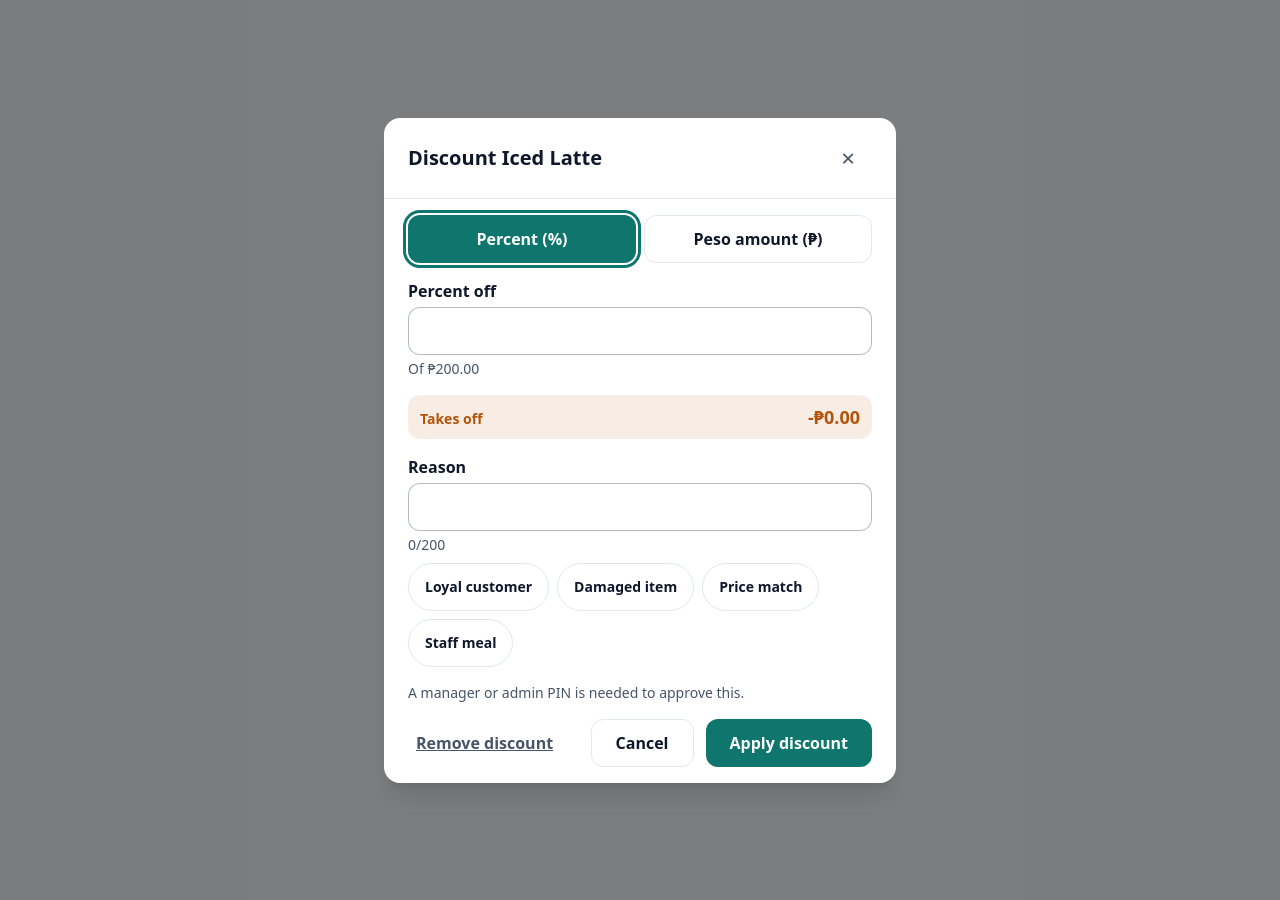
Test: DiscountDialog › refuses a fixed amount above the total
Step 1. Click the radio button labelled "Peso amount (₱)" → (758,238), box [644, 214, 872, 262]
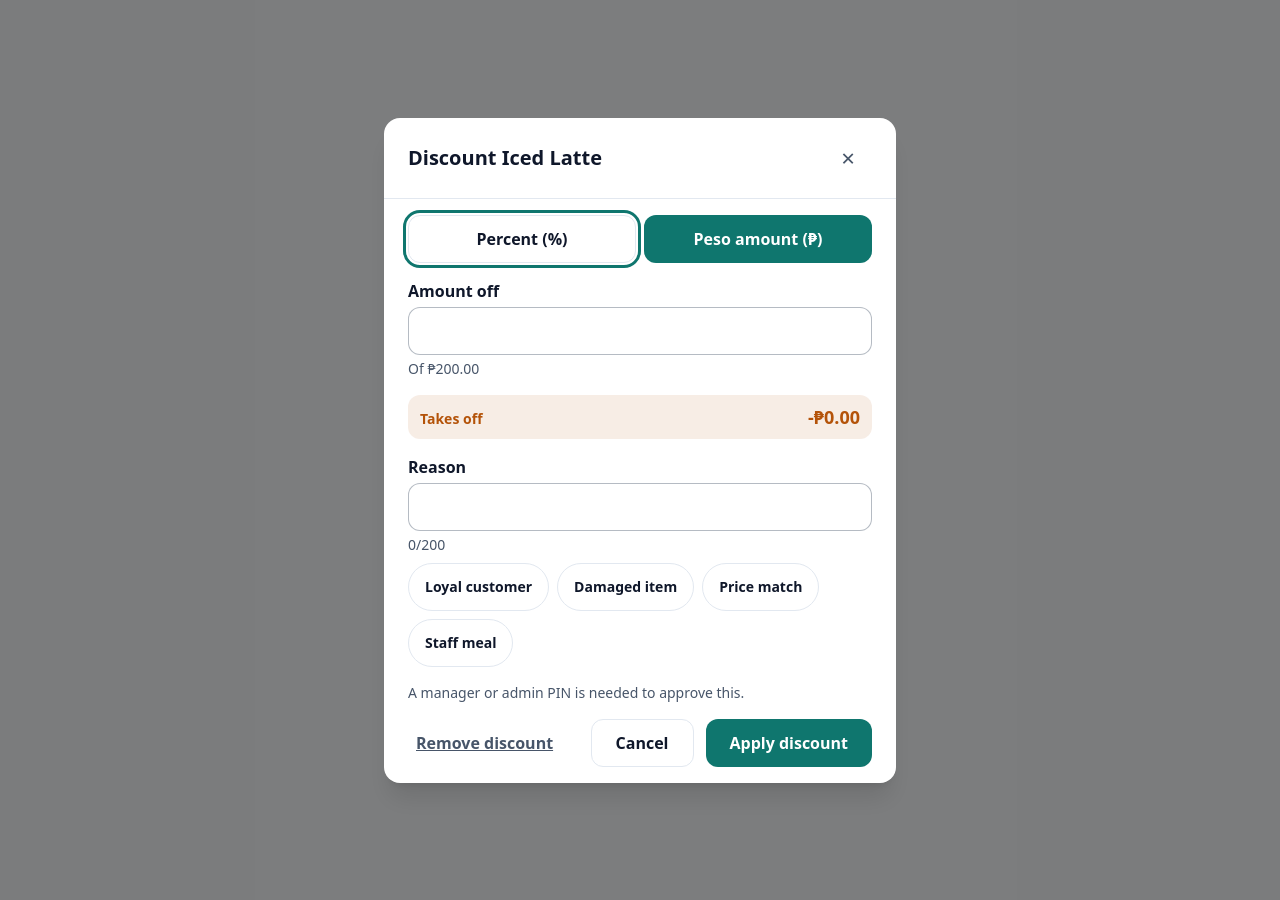
Step 2. Type "250" into the field labelled "Amount off" → (640,330), box [408, 306, 872, 354]
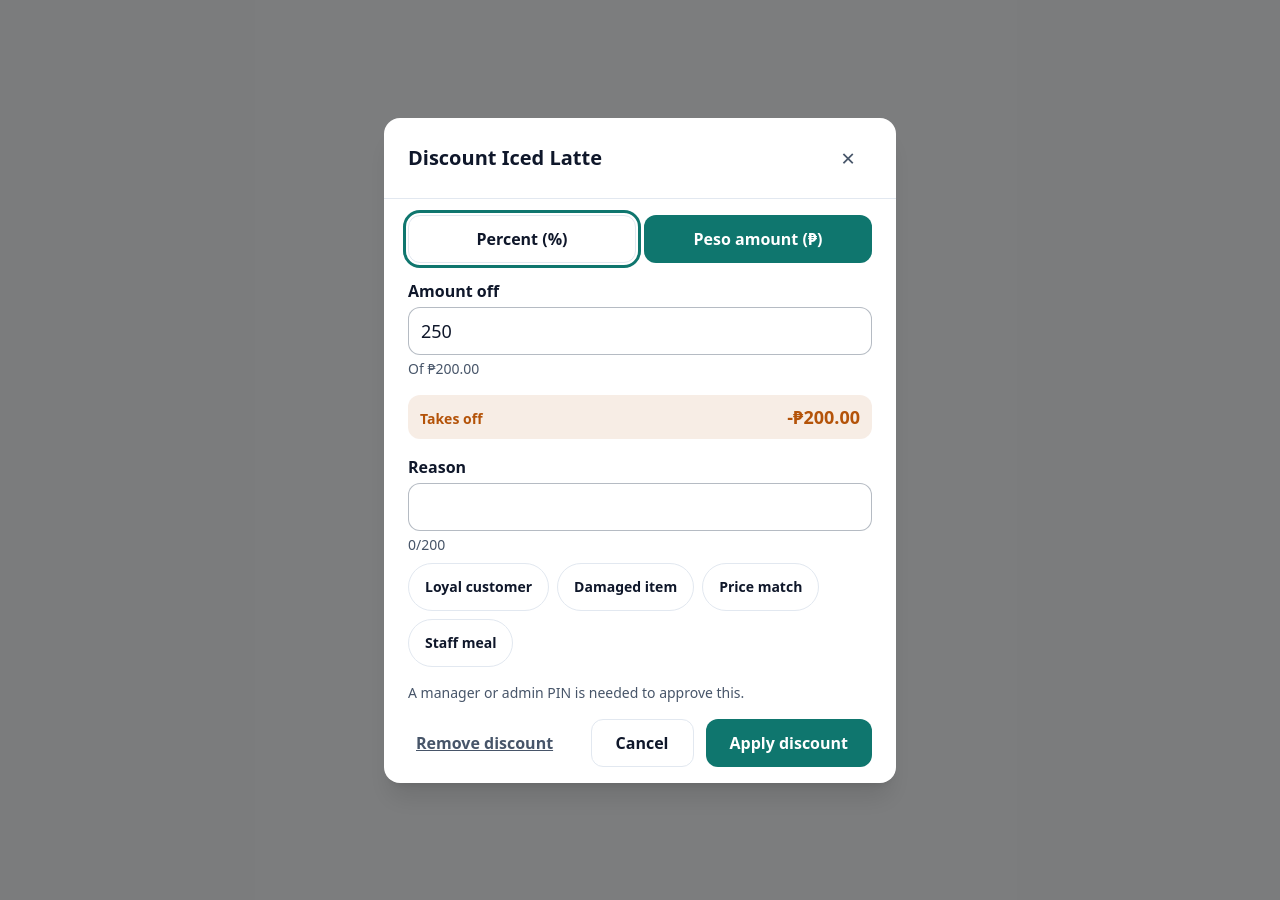
Step 3. Type "r" into the field labelled "Reason" → (640,506), box [408, 482, 872, 530]
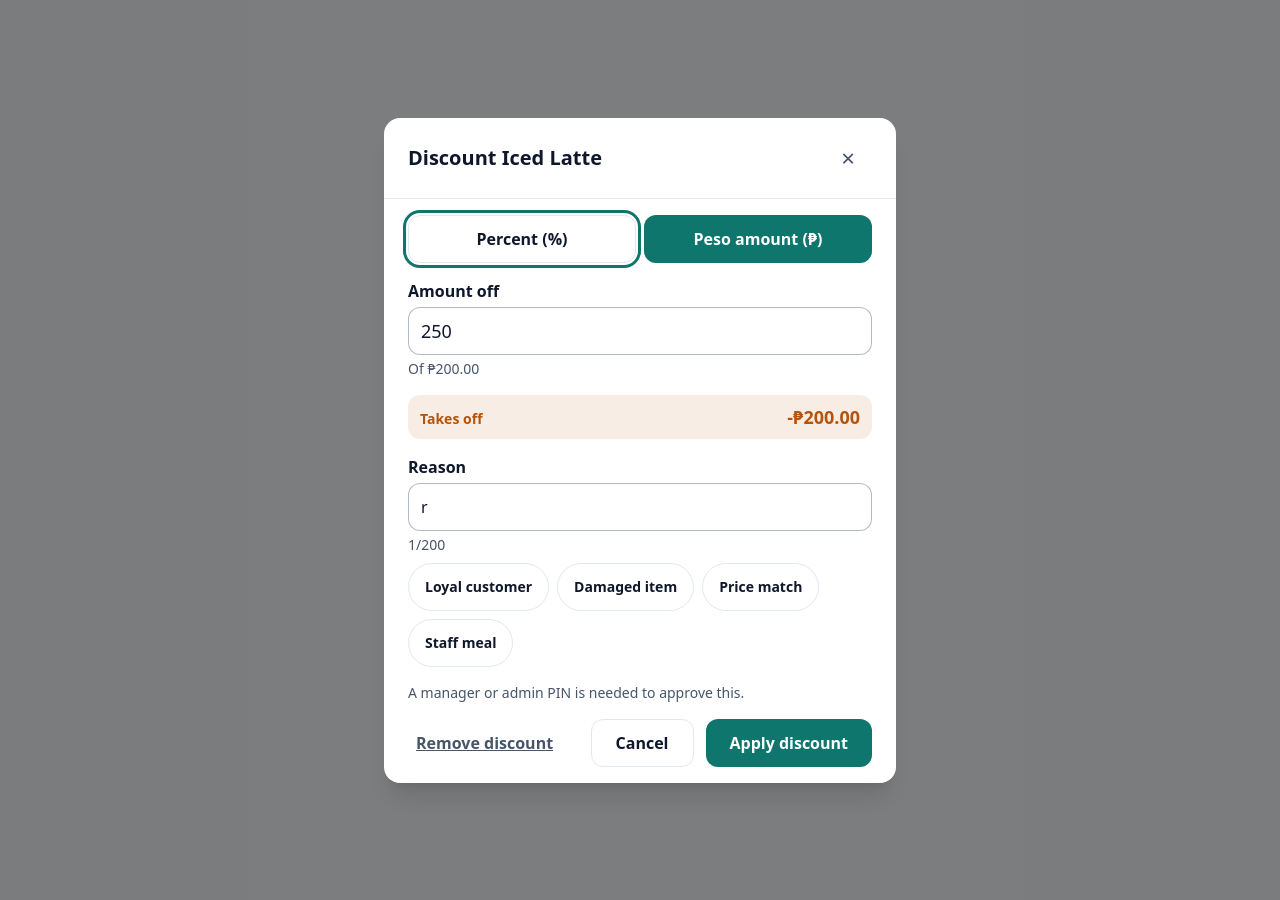
Step 4. Click the button "Apply discount" → (789,742), box [706, 718, 872, 766]
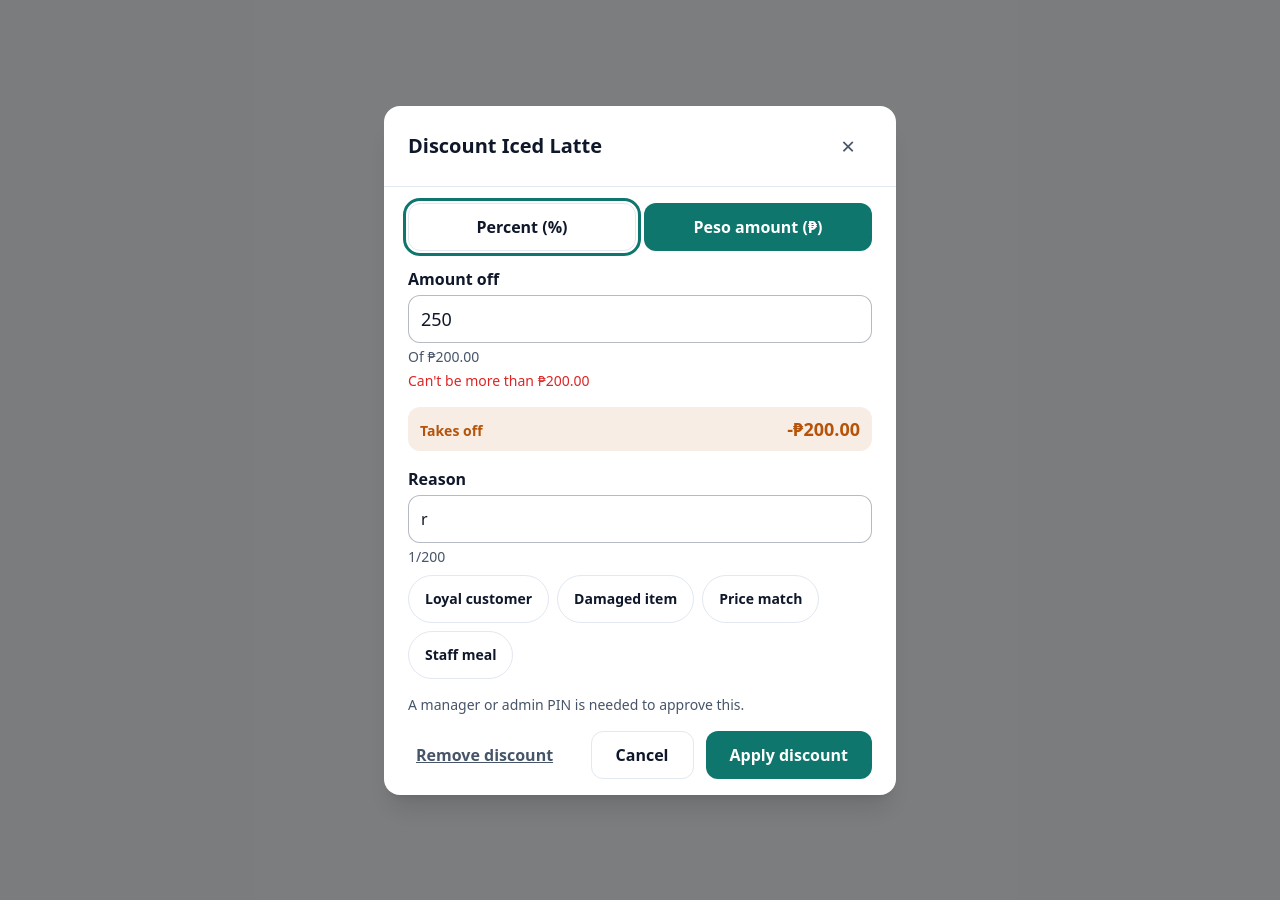
Expected: the text "Can't be more than ₱200.00" is shown, [408, 370, 590, 390]
